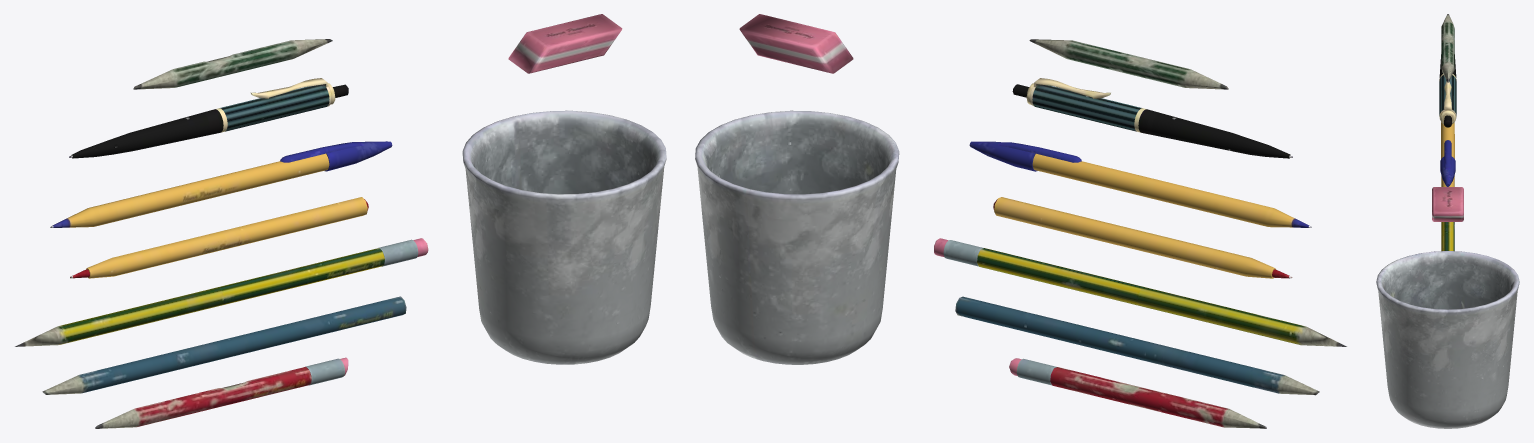
The model's file is stationery_supplies.glb.
3 renders of one model, left to right at view 1: azimuth 30°, elevation 25°; view 2: azimuth 150°, elevation 25°; view 3: azimuth 270°, elevation 25°, orthographic. The views are drawn at different scales.
Visible parts, largest first — view 1: stationery_supplies_pen_red; view 2: stationery_supplies_pen_red; view 3: stationery_supplies_pen_red.
Boxes of the visible parts, x1,y1,x2,y2 form: stationery_supplies_pen_red: (15,14,666,428); stationery_supplies_pen_red: (695,14,1346,428); stationery_supplies_pen_red: (1376,14,1519,428).
Size of the model in its own units: 0.3019 by 0.1644 by 0.0837.
1 material, 1 textured.
